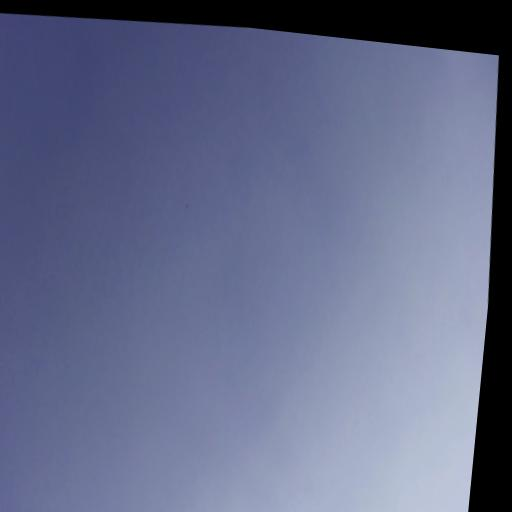drones: (183, 202, 189, 210)
